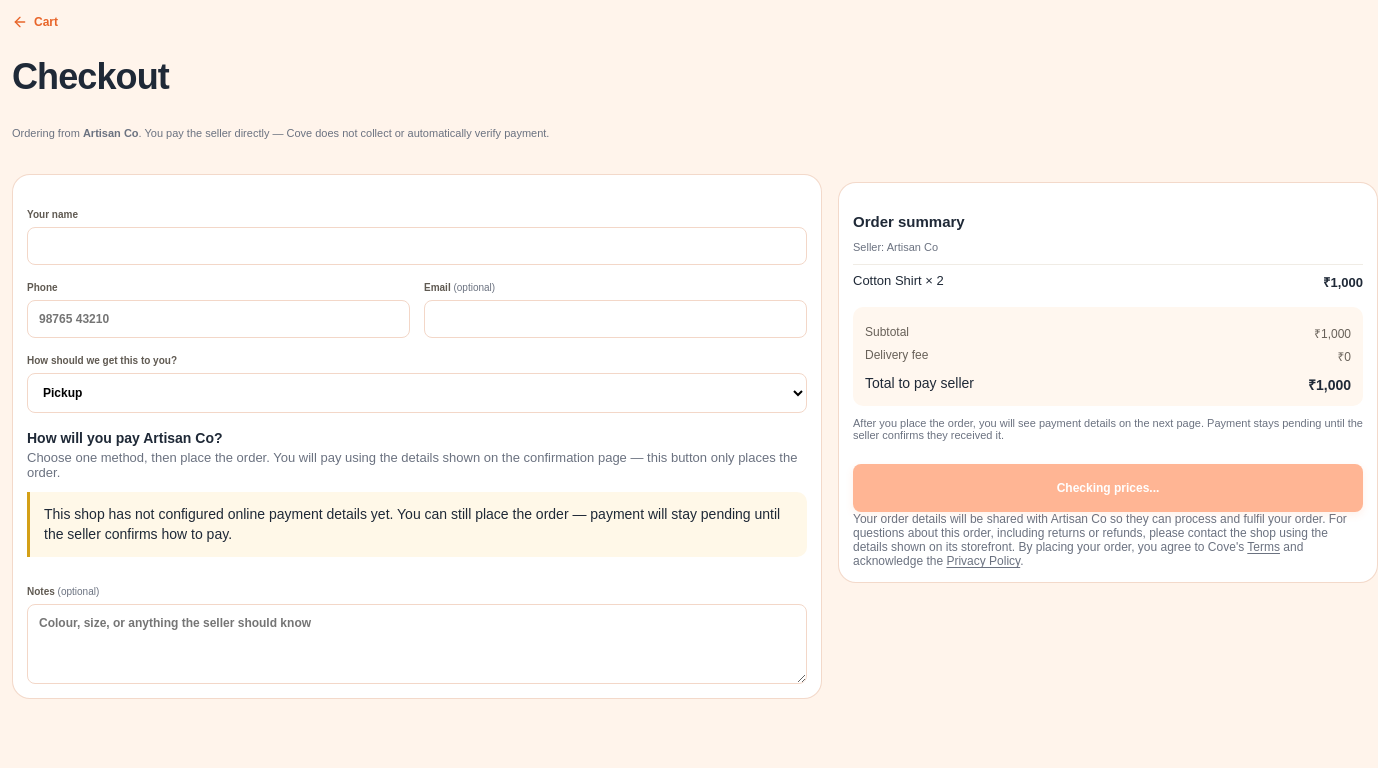
Scenario: StoreCheckoutPage › validation › validates phone format when invalid phone is entered
Type "Rohit Sharma" into the field labelled "Your name".
click(417, 246); type("Rohit Sharma")  # box x1=27 y1=227 x2=807 y2=265
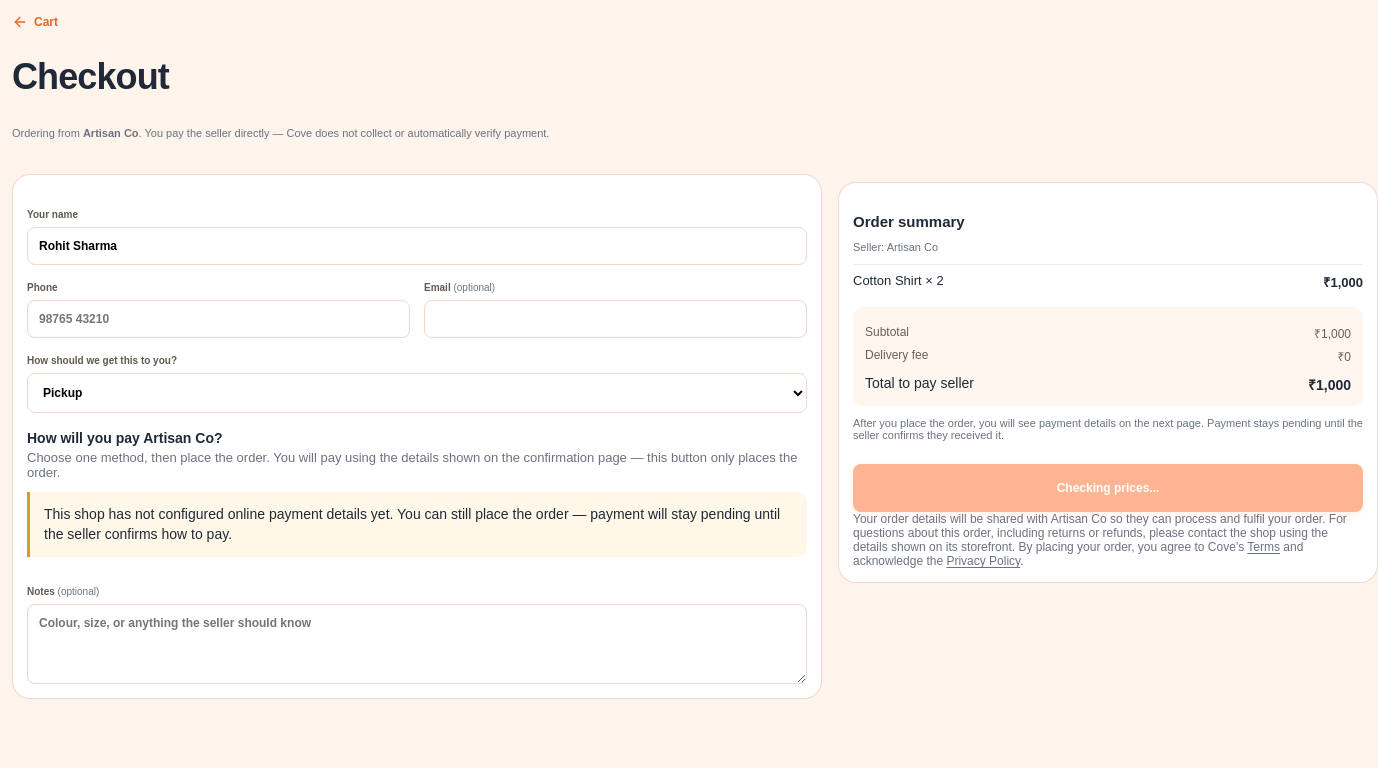
Type "abc" into the field labelled "Phone".
click(218, 319); type("abc")  # box x1=27 y1=300 x2=410 y2=338
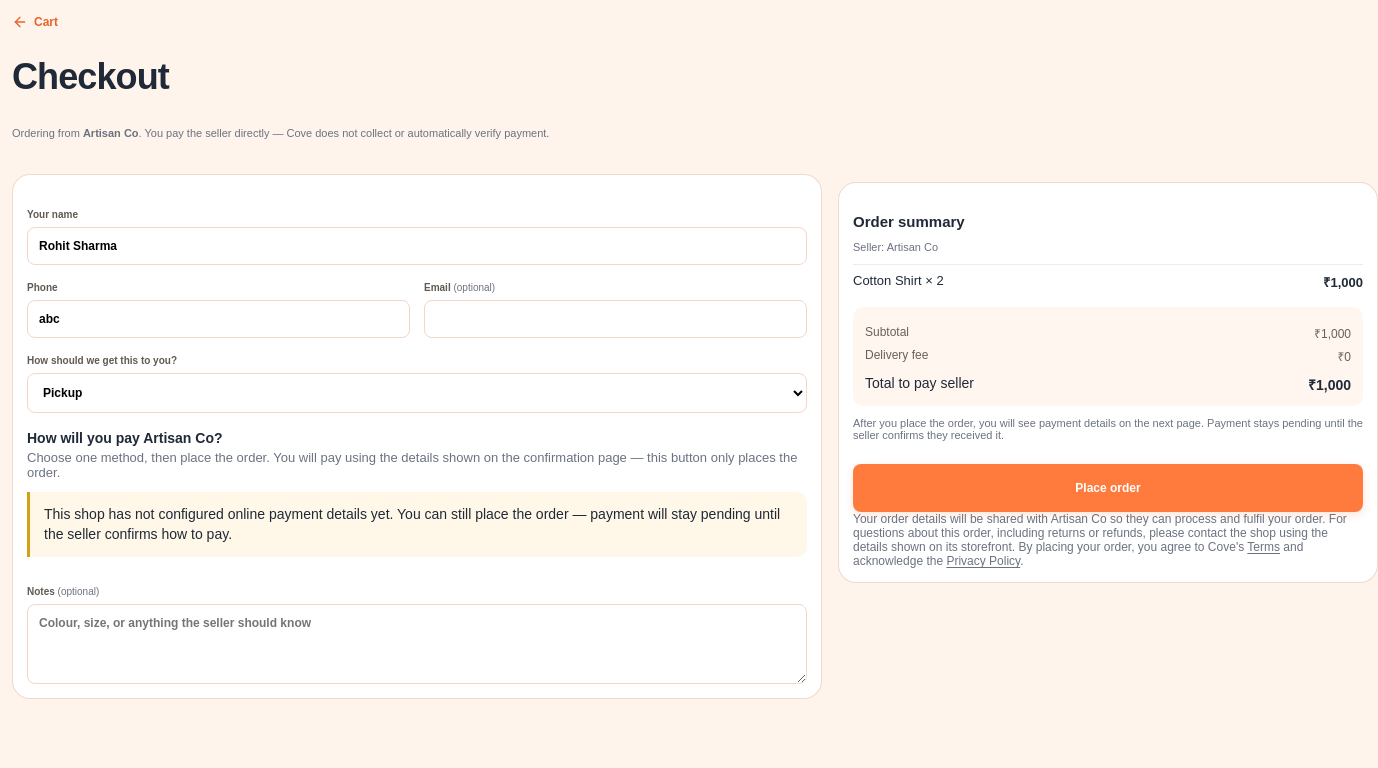
Click the button "Place order".
click(1108, 488)  # box x1=853 y1=464 x2=1363 y2=512
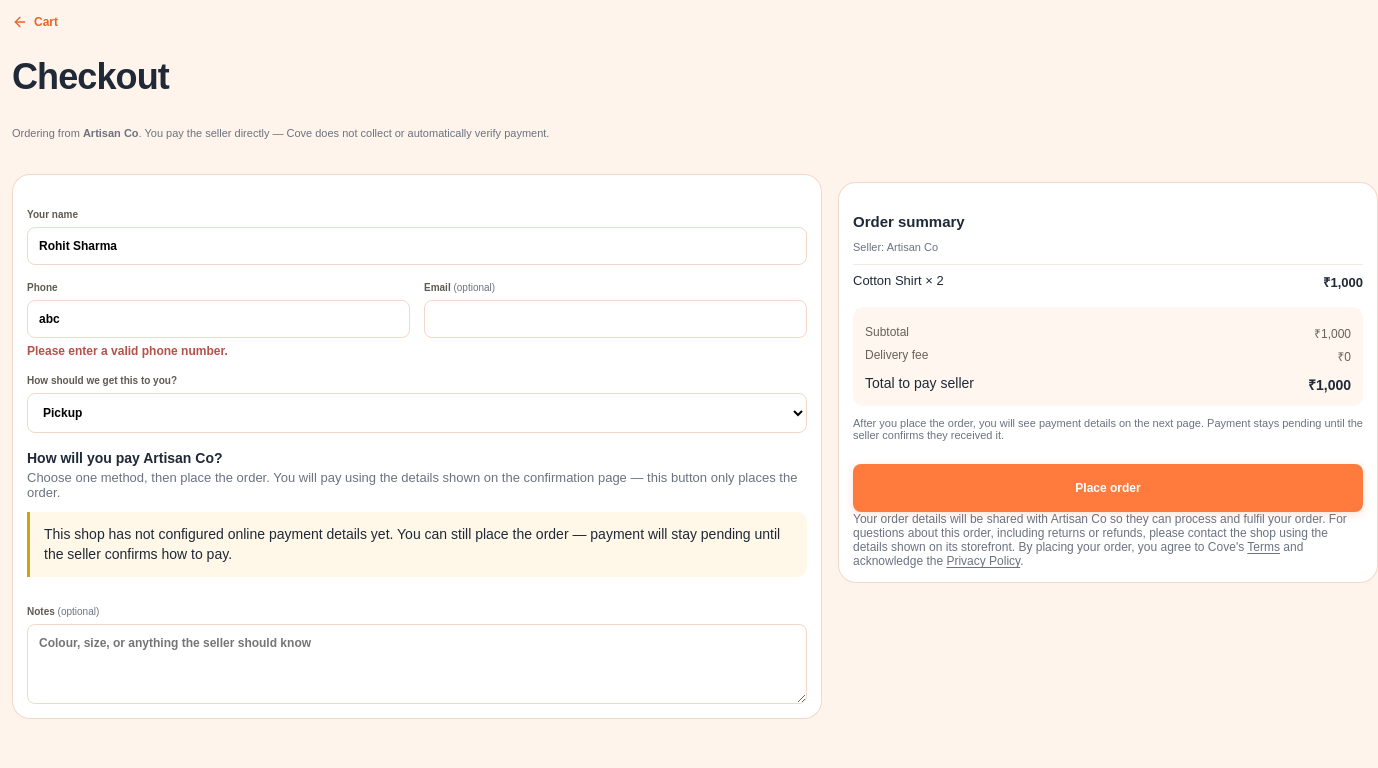
Now the text "Please enter a valid phone number." is shown, box x1=27 y1=344 x2=228 y2=358
